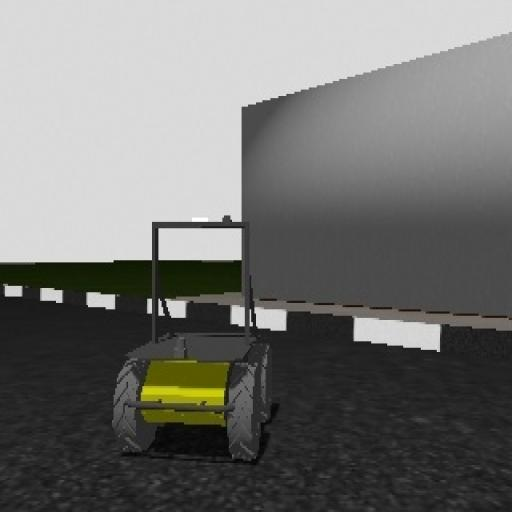huskya200: (115, 202, 285, 501)
